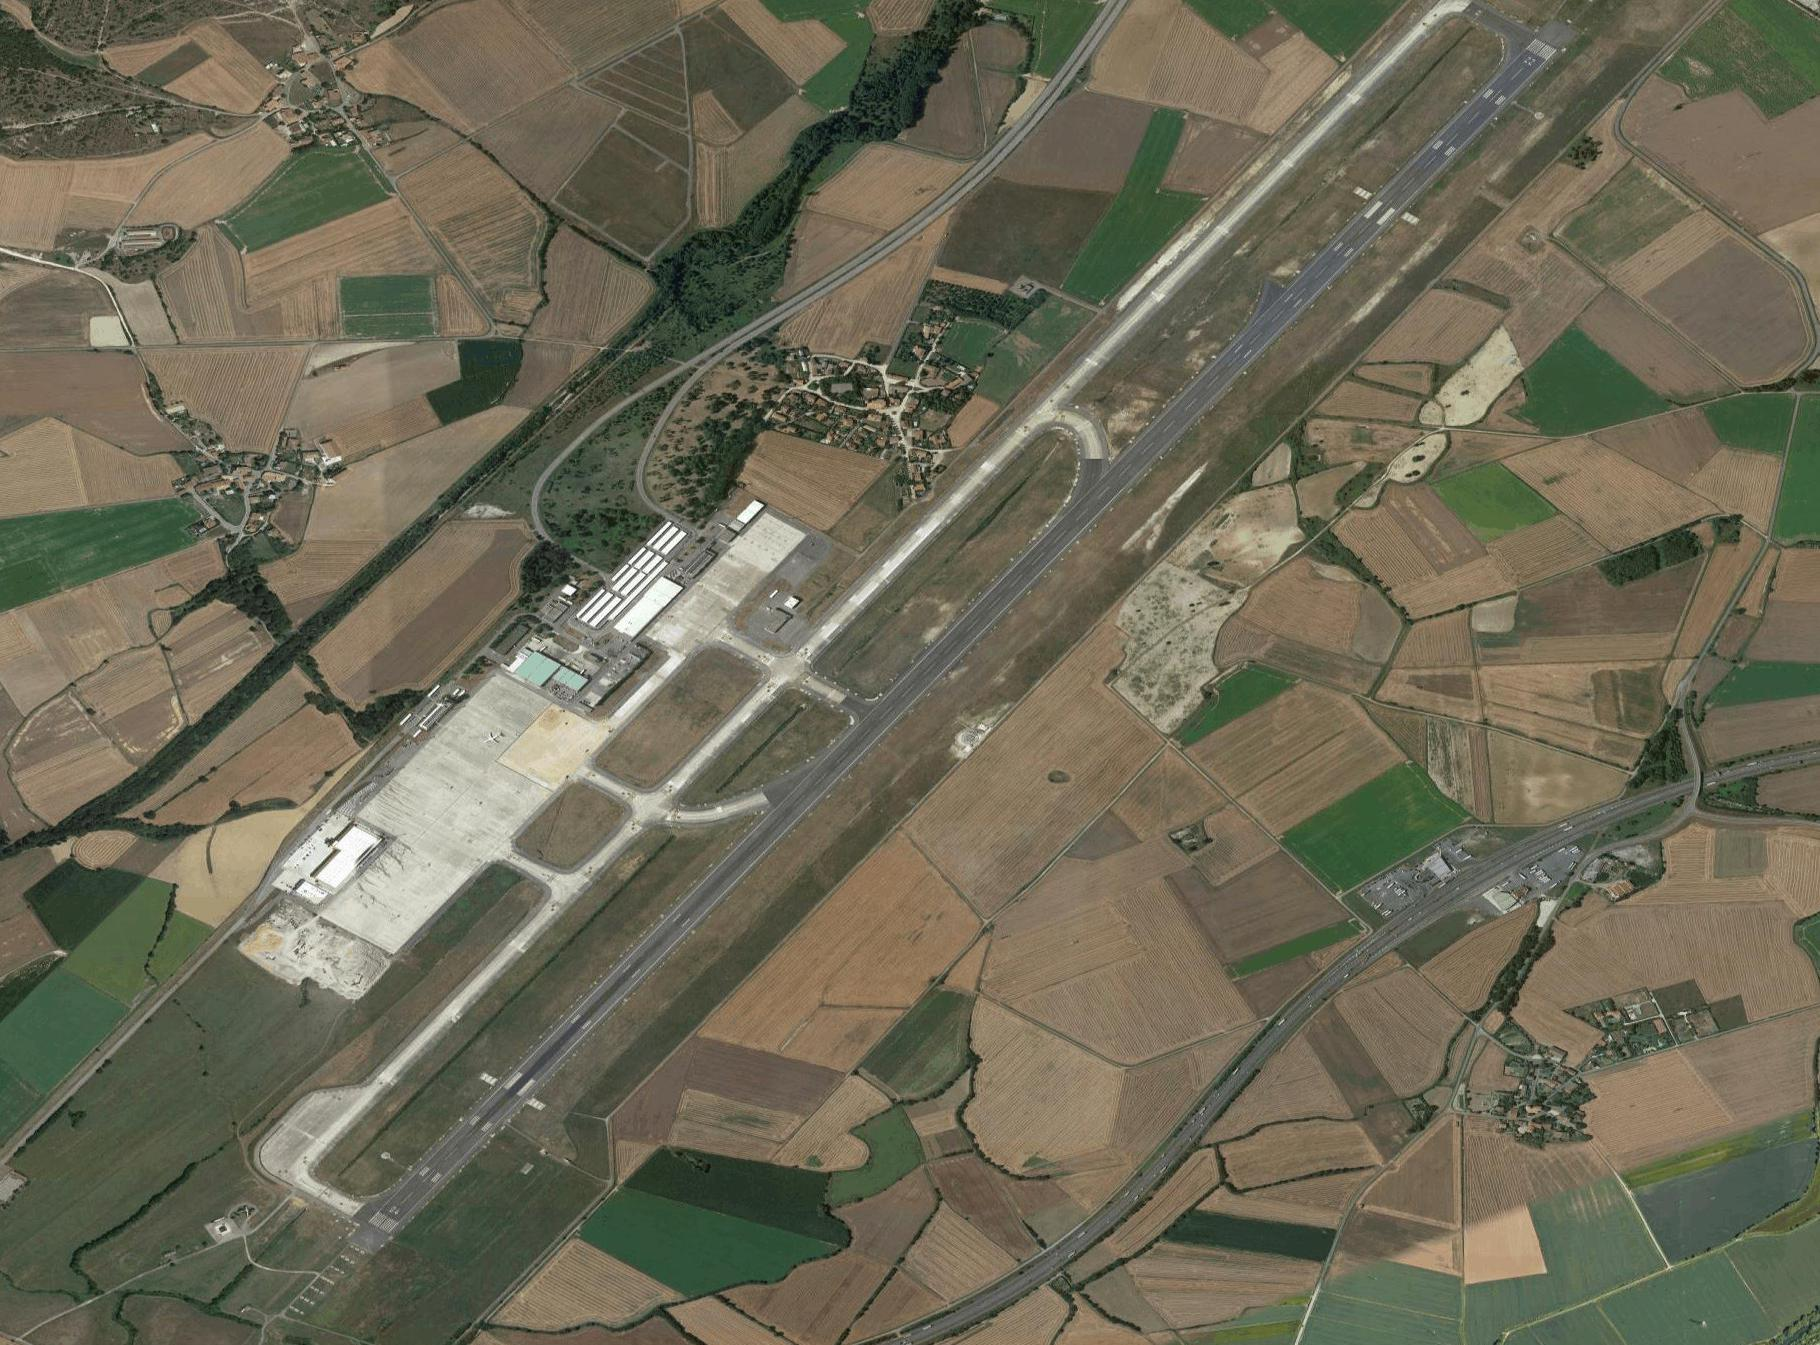airport: (252, 1, 1590, 1264)
motorway: (1143, 940, 1366, 1185), (868, 1175, 1149, 1345), (1365, 800, 1626, 964), (1626, 743, 1820, 817)
